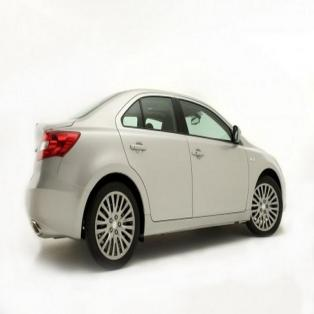Auto: (24, 87, 286, 267)
